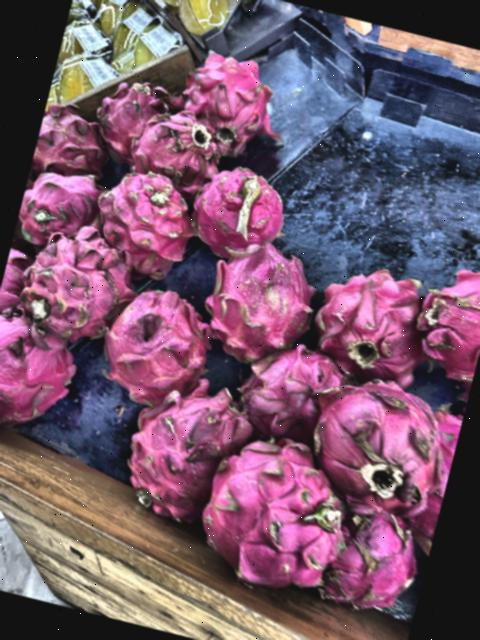buah-naga-belum-matang: (192, 230, 326, 366)
buah-naga-matang: (184, 424, 366, 600), (296, 356, 463, 522), (120, 368, 255, 539), (302, 252, 438, 389), (95, 271, 222, 413), (18, 216, 143, 347), (317, 492, 433, 626), (85, 162, 207, 282), (232, 332, 349, 448), (178, 42, 288, 155), (183, 157, 298, 263), (0, 308, 87, 444), (121, 100, 232, 199), (410, 255, 480, 387), (13, 167, 110, 260), (32, 95, 120, 183), (82, 78, 167, 158)
